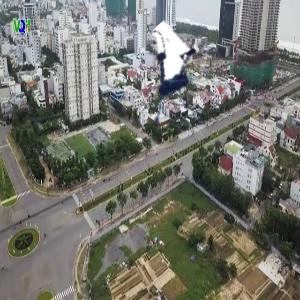drone: (117, 36, 220, 139)
